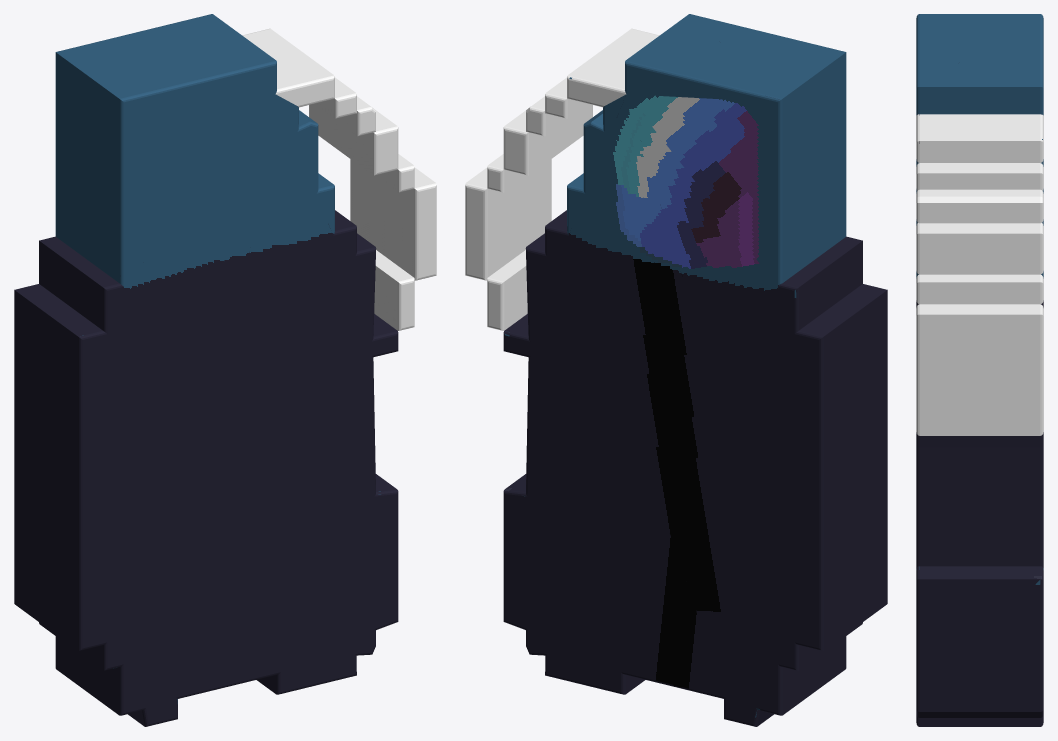
File: PlayerModel.glb
3 views of the same model, side by side, from view 1: azimuth 30°, elevation 25°; view 2: azimuth 150°, elevation 25°; view 3: azimuth 270°, elevation 25° (orthographic). The views are drawn at different scales.
Visible parts, largest first — view 1: Node, Node.004, Node.002, Node.005, Node.001, Node.007, Node.003; view 2: Node, Node.004, Node.002, Node.005, Node.001, Node.007, Node.003; view 3: Node, Node.004, Node.002, Node.001, Node.005, Node.003, Node.007.
Part boxes in pixels (left/top/right/bottom): Node: left=14, top=14, right=398, bottom=726; Node.004: left=350, top=159, right=436, bottom=280; Node.002: left=309, top=104, right=398, bottom=175; Node.005: left=374, top=250, right=414, bottom=330; Node.001: left=313, top=96, right=375, bottom=136; Node.007: left=314, top=77, right=356, bottom=118; Node.003: left=375, top=154, right=414, bottom=192; Node: left=503, top=14, right=887, bottom=726; Node.004: left=465, top=159, right=551, bottom=280; Node.002: left=503, top=104, right=592, bottom=175; Node.005: left=487, top=250, right=527, bottom=330; Node.001: left=526, top=96, right=588, bottom=136; Node.007: left=545, top=77, right=587, bottom=118; Node.003: left=487, top=154, right=526, bottom=192; Node: left=916, top=14, right=1043, bottom=726; Node.004: left=916, top=304, right=1043, bottom=402; Node.002: left=916, top=223, right=1043, bottom=274; Node.001: left=916, top=189, right=1043, bottom=223; Node.005: left=916, top=398, right=1043, bottom=435; Node.003: left=916, top=274, right=1043, bottom=304; Node.007: left=916, top=163, right=1043, bottom=190.
Bounding box in the file's own units: 4.55 × 7.7 × 1.47.
4 materials, 4 textured.
